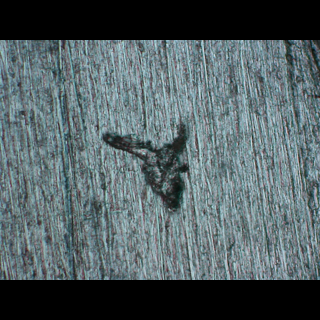d: (97, 118, 193, 214)
